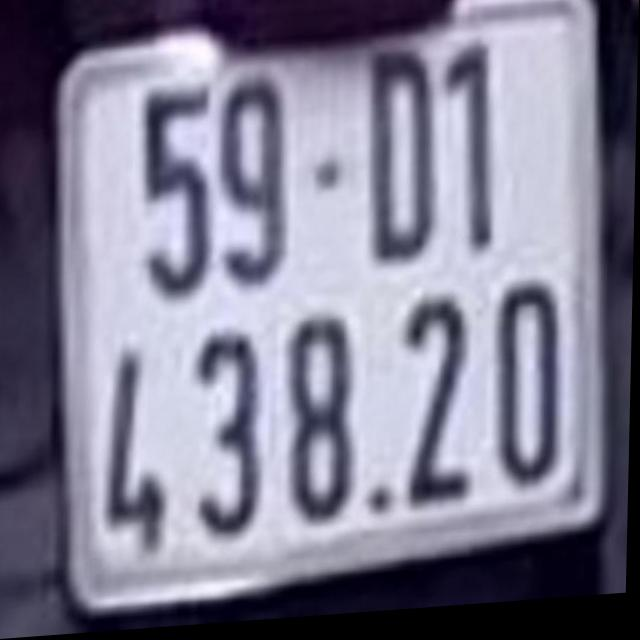0: (498, 289, 562, 489)
1: (442, 42, 509, 257)
2: (406, 307, 474, 506)
3: (195, 339, 264, 536)
4: (107, 349, 175, 556)
5: (145, 91, 213, 299)
8: (288, 327, 356, 524)
9: (219, 85, 289, 288)
D: (361, 52, 439, 267)
